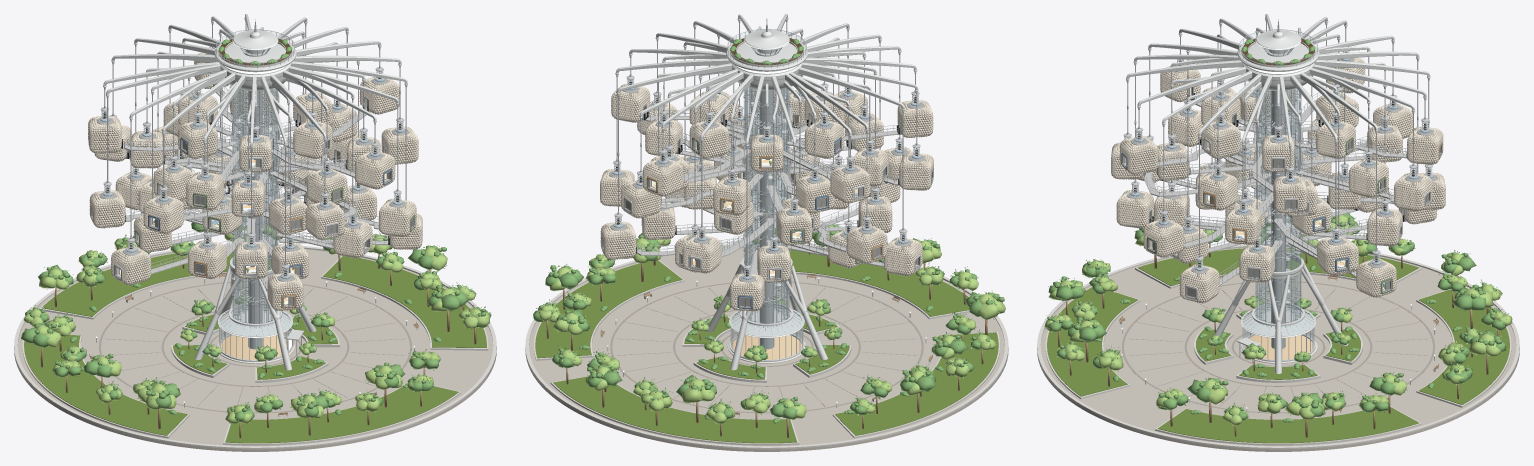
Rendered from q04a-suspended-pod-tower-v2.glb.
The picture shows the model from 3 angles, left to right: view 1: azimuth 30°, elevation 25°; view 2: azimuth 150°, elevation 25°; view 3: azimuth 270°, elevation 25°; orthographic projection.
Parts seen in each view (by area): view 1: PLAZA_GROUND, CORE_STRUCTURE, CROWN_HUB, CORE_TUBES, CORE_BASE, CORE_LEGS, CORE_BASE_GLASS, POD_OUTER_17, POD_OUTER_11, POD_OUTER_12, POD_OUTER_18, POD_OUTER_10 (+55 smaller); view 2: PLAZA_GROUND, CORE_STRUCTURE, CROWN_HUB, CORE_TUBES, CORE_BASE, CORE_LEGS, CORE_BASE_GLASS, POD_OUTER_05, POD_INNER_07, POD_OUTER_10, POD_OUTER_11, POD_OUTER_09 (+59 smaller); view 3: PLAZA_GROUND, CORE_STRUCTURE, CORE_TUBES, CROWN_HUB, CORE_BASE, CORE_LEGS, CORE_BASE_GLASS, POD_OUTER_18, POD_OUTER_17, POD_OUTER_15, POD_OUTER_04, POD_OUTER_03 (+57 smaller).
Part boxes in pixels (x1,y1,x2,y2): PLAZA_GROUND: [14, 244, 496, 451]; CORE_STRUCTURE: [229, 88, 278, 349]; CROWN_HUB: [214, 19, 296, 90]; CORE_TUBES: [232, 88, 278, 323]; CORE_BASE: [216, 303, 303, 363]; CORE_LEGS: [194, 261, 316, 370]; CORE_BASE_GLASS: [220, 311, 291, 359]; POD_OUTER_17: [355, 142, 395, 189]; POD_OUTER_11: [111, 238, 151, 285]; POD_OUTER_12: [143, 187, 183, 233]; POD_OUTER_18: [378, 190, 416, 237]; POD_OUTER_10: [89, 181, 125, 228]; PLAZA_GROUND: [525, 244, 1008, 451]; CORE_STRUCTURE: [741, 88, 792, 349]; CROWN_HUB: [726, 19, 807, 90]; CORE_TUBES: [744, 88, 789, 323]; CORE_BASE: [727, 302, 805, 363]; CORE_LEGS: [707, 261, 827, 370]; CORE_BASE_GLASS: [731, 311, 802, 359]; POD_OUTER_05: [642, 149, 683, 196]; POD_INNER_07: [804, 111, 844, 158]; POD_OUTER_10: [846, 216, 887, 263]; POD_OUTER_11: [883, 229, 922, 276]; POD_OUTER_09: [830, 156, 870, 203]; PLAZA_GROUND: [1037, 244, 1519, 451]; CORE_STRUCTURE: [1255, 88, 1304, 348]; CORE_TUBES: [1255, 88, 1301, 322]; CROWN_HUB: [1237, 19, 1319, 90]; CORE_BASE: [1237, 303, 1317, 363]; CORE_LEGS: [1214, 260, 1348, 373]; CORE_BASE_GLASS: [1243, 312, 1313, 359]; POD_OUTER_18: [1143, 210, 1183, 257]; POD_OUTER_17: [1119, 127, 1158, 174]; POD_OUTER_15: [1116, 181, 1154, 228]; POD_OUTER_04: [1394, 164, 1432, 211]; POD_OUTER_03: [1356, 250, 1396, 297].
Bounding box in the file's own units: 80 × 60.5 × 80.
